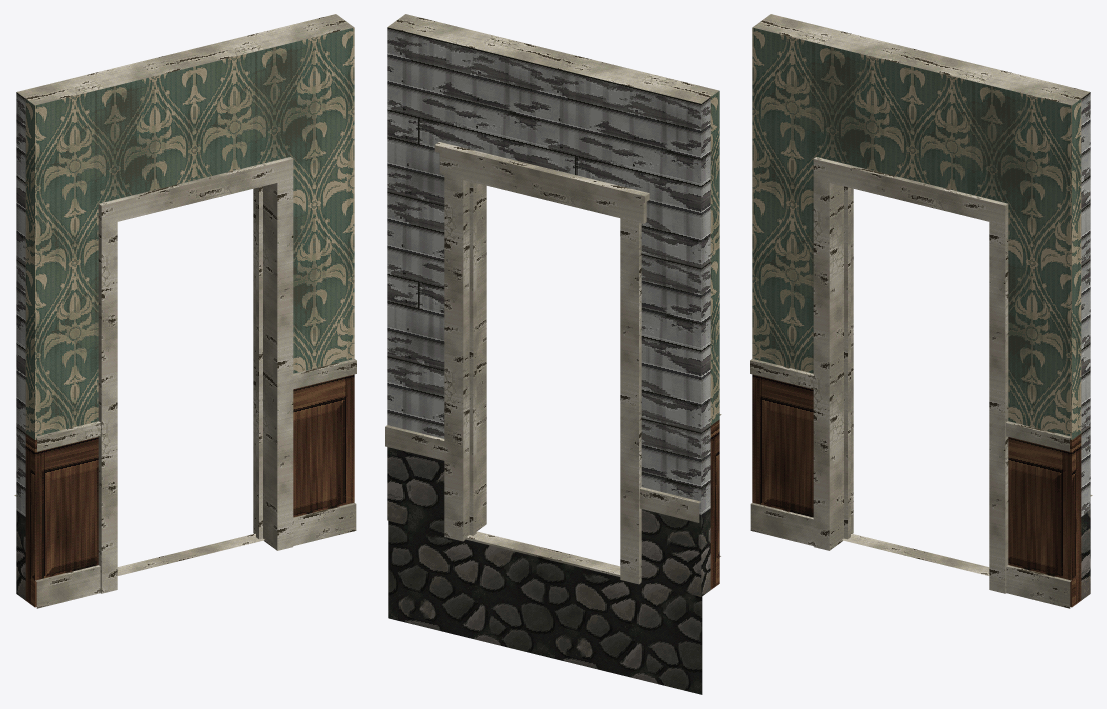
File: house_wall_ext_door.glb
The picture shows the model from 3 angles, left to right: view 1: azimuth 30°, elevation 25°; view 2: azimuth 150°, elevation 25°; view 3: azimuth 330°, elevation 25°; orthographic projection.
Visible parts, largest first — view 1: house_wall_ext_door; view 2: house_wall_ext_door; view 3: house_wall_ext_door.
Boxes of the visible parts, left/top/right/bottom form: house_wall_ext_door: left=14, top=14, right=356, bottom=608; house_wall_ext_door: left=385, top=14, right=721, bottom=694; house_wall_ext_door: left=750, top=14, right=1092, bottom=608.
Bounding box in the file's own units: 2 × 3.6 × 0.28.
Materials: 5 (5 with a texture image).
